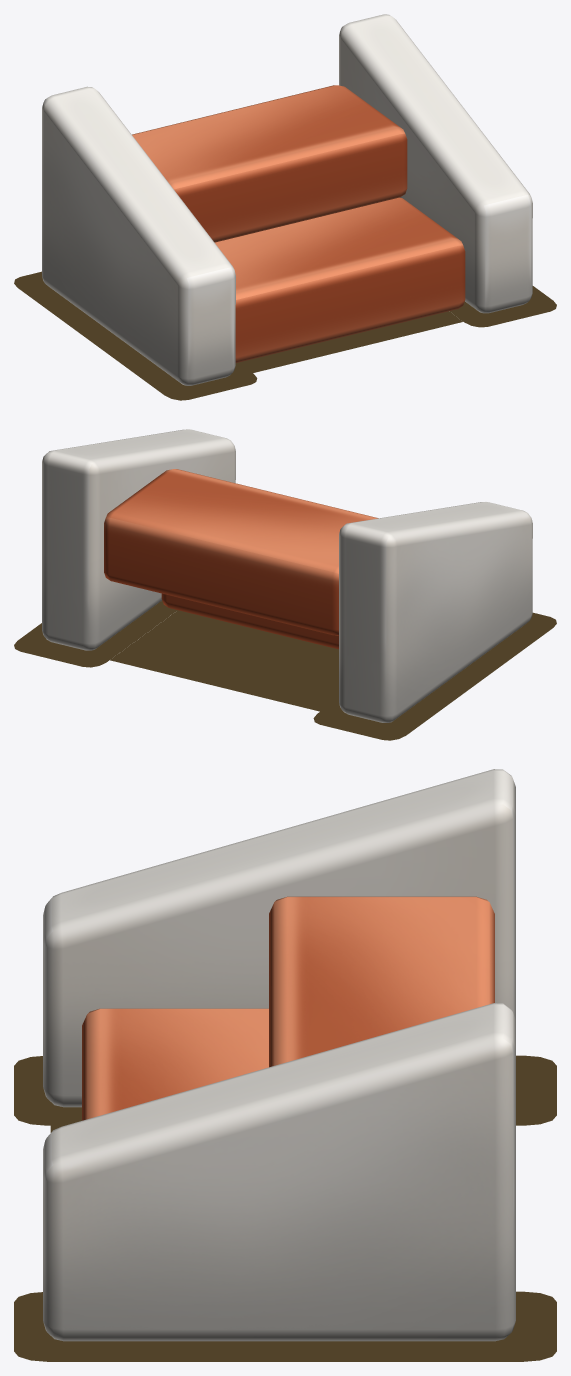
Rendered from Veg_Stair.fbx.
3 renders of one model, top to bottom at view 1: azimuth 30°, elevation 25°; view 2: azimuth 150°, elevation 25°; view 3: azimuth 270°, elevation 25°, orthographic. The views are drawn at different scales.
Parts seen in each view (by area): view 1: Stair_body, Stair_SDW; view 2: Stair_body, Stair_SDW; view 3: Stair_body, Stair_SDW.
Part boxes in pixels (left/top/right/bottom): Stair_body: left=42, top=14, right=532, bottom=385; Stair_SDW: left=14, top=271, right=556, bottom=400; Stair_body: left=42, top=429, right=532, bottom=722; Stair_SDW: left=14, top=600, right=556, bottom=740; Stair_body: left=43, top=769, right=515, bottom=1341; Stair_SDW: left=14, top=1055, right=556, bottom=1361.
Bounding box in the file's own units: 176 × 82.42 × 132.
Materials: 2 (1 with a texture image).
